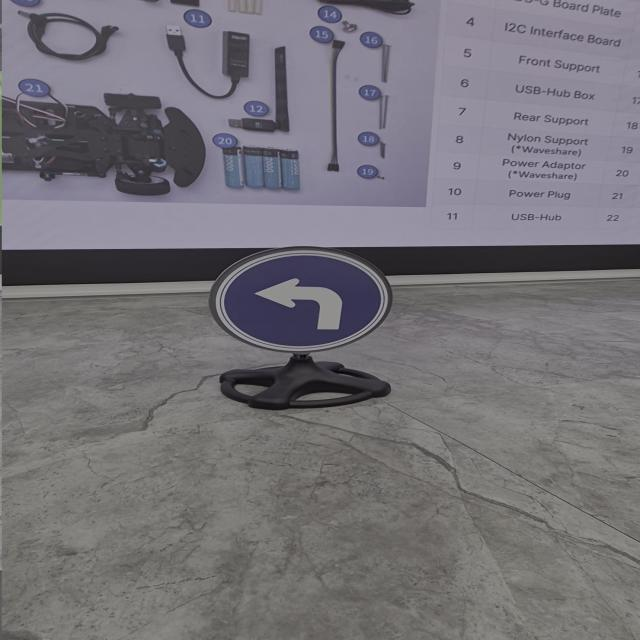left_direction: (200, 243, 403, 357)
